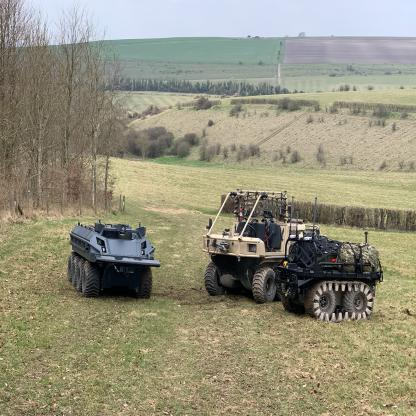UGV: (277, 236, 385, 322), (67, 222, 161, 300), (201, 231, 277, 309)
